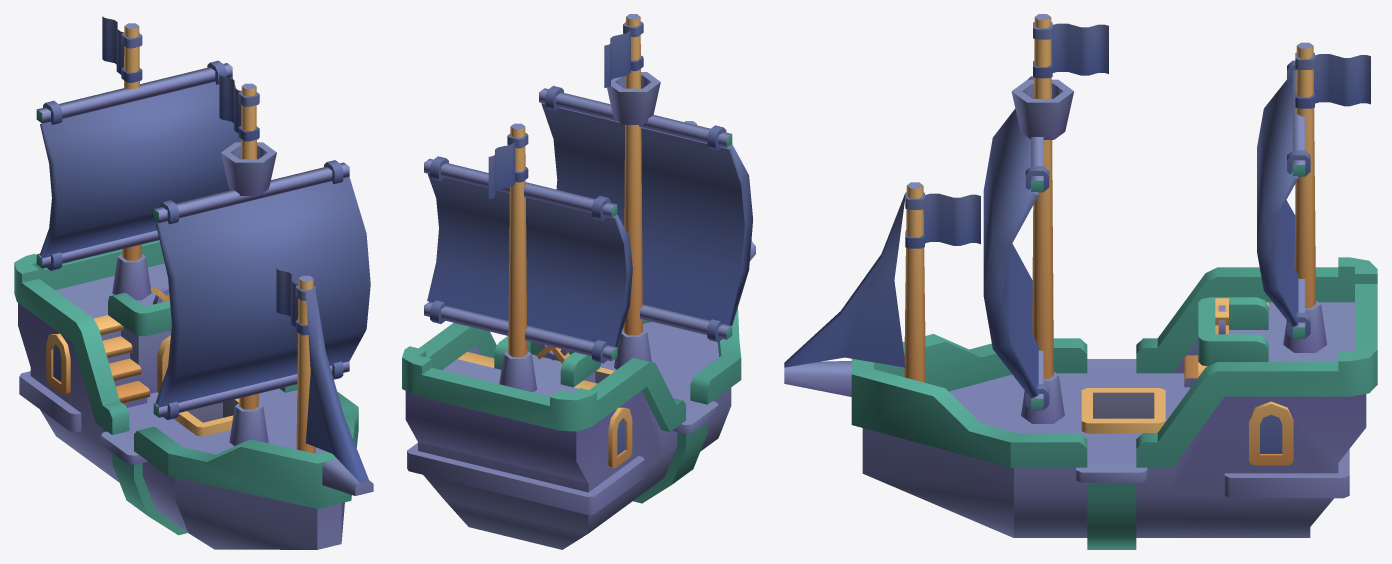
Rendered from ship-medium.fbx.
The picture shows the model from 3 angles, left to right: view 1: azimuth 30°, elevation 25°; view 2: azimuth 150°, elevation 25°; view 3: azimuth 270°, elevation 25°; orthographic projection. The views are drawn at different scales.
Visible parts, largest first — view 1: ship-medium, sail-a, sail-b, flag-b, flag-c, flag-a; view 2: ship-medium, sail-a, sail-b, flag-c, flag-b; view 3: ship-medium, sail-a, sail-b, flag-b, flag-a, flag-c.
Boxes of the visible parts, x1,y1,x2,y2 form: ship-medium: [14, 23, 373, 549]; sail-a: [153, 160, 370, 419]; sail-b: [36, 60, 241, 270]; flag-b: [219, 73, 259, 141]; flag-c: [102, 16, 142, 82]; flag-a: [276, 268, 316, 335]; ship-medium: [402, 14, 755, 549]; sail-a: [539, 86, 753, 341]; sail-b: [424, 156, 632, 363]; flag-c: [488, 133, 528, 199]; flag-b: [604, 21, 643, 87]; ship-medium: [784, 14, 1377, 549]; sail-a: [983, 76, 1049, 410]; sail-b: [1257, 60, 1310, 338]; flag-b: [1033, 22, 1108, 78]; flag-a: [905, 192, 980, 248]; flag-c: [1295, 52, 1370, 108].
Bounding box in the file's own units: 480 × 996 × 1060.
